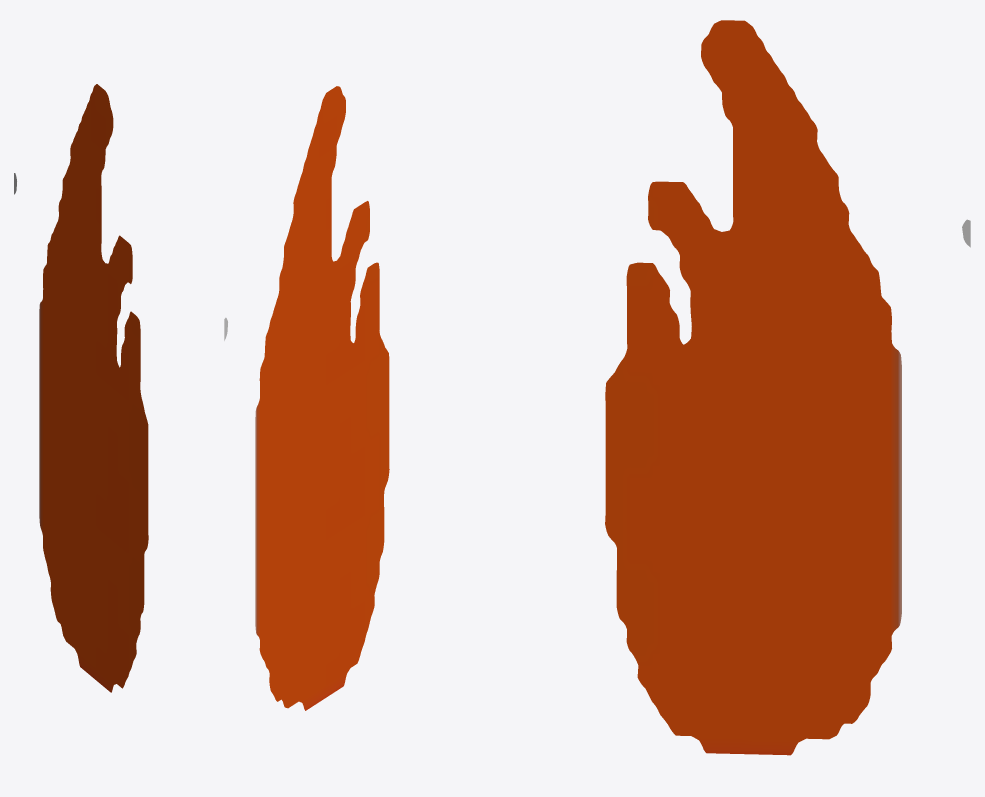
File: pm-fire-torch-02.glb
3 renders of one model, left to right at view 1: azimuth 30°, elevation 25°; view 2: azimuth 150°, elevation 25°; view 3: azimuth 270°, elevation 25°, orthographic. The views are drawn at different scales.
Visible parts, largest first — view 1: FireTorch02_Art; view 2: FireTorch02_Art; view 3: FireTorch02_Art.
Part boxes in pixels (x1=…): FireTorch02_Art: x1=14, y1=84, x2=148, y2=692; FireTorch02_Art: x1=224, y1=86, x2=389, y2=710; FireTorch02_Art: x1=605, y1=20, x2=970, y2=755.
Size of the model in its own units: 0.0188 by 0.5724 by 0.3386.
Materials: 1 (1 with a texture image).
